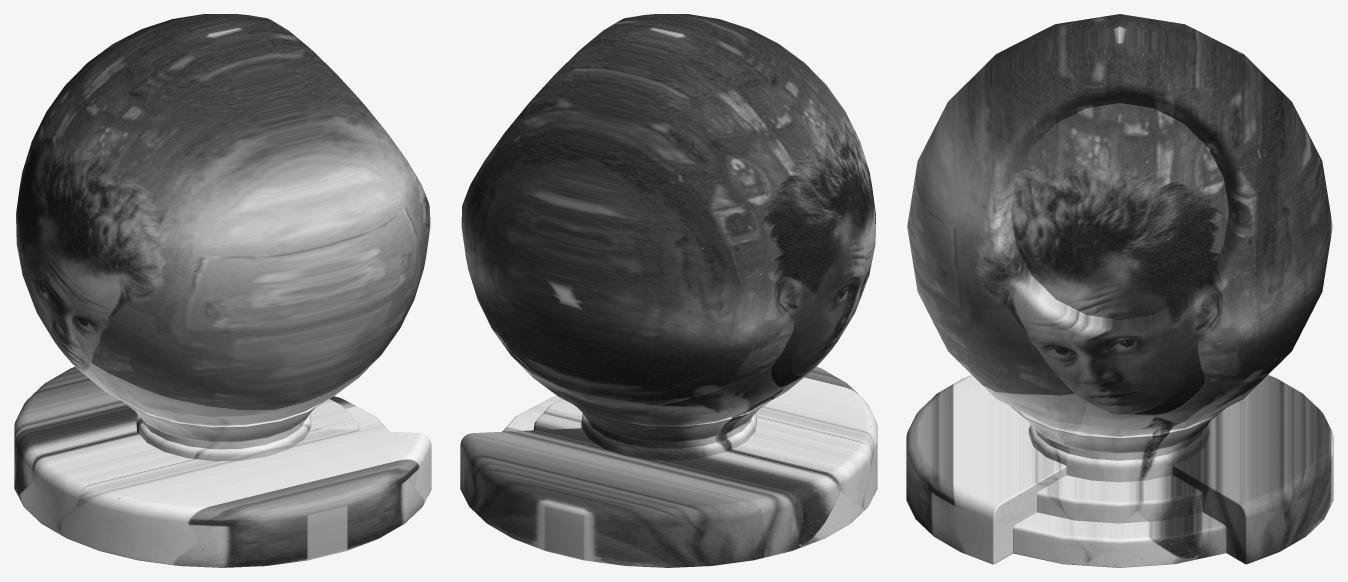
The model's file is Shader_Ball_GEO_Video.fbx.
3 views of the same model, side by side, from view 1: azimuth 30°, elevation 25°; view 2: azimuth 150°, elevation 25°; view 3: azimuth 270°, elevation 25° (orthographic). The views are drawn at different scales.
Visible parts, largest first — view 1: Shader_Ball_GEO; view 2: Shader_Ball_GEO; view 3: Shader_Ball_GEO.
Boxes of the visible parts, box(x1,y1,x2,y2) form: Shader_Ball_GEO: box(14, 14, 431, 567); Shader_Ball_GEO: box(460, 14, 877, 567); Shader_Ball_GEO: box(906, 14, 1333, 567).
Bounding box in the file's own units: 197 × 234 × 198.
Materials: 1 (1 with a texture image).
